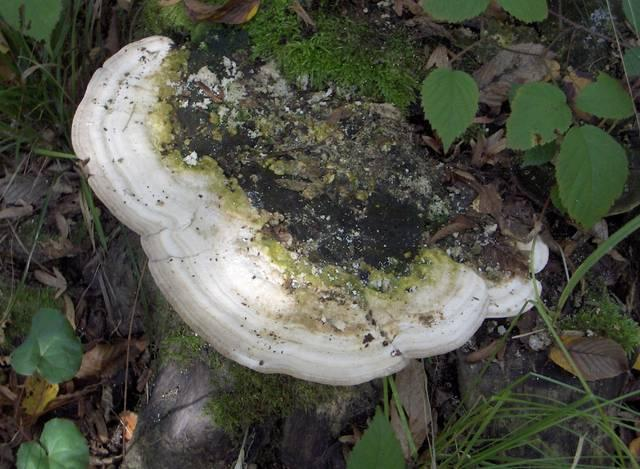poisonous_mushroom: (69, 33, 545, 387)
